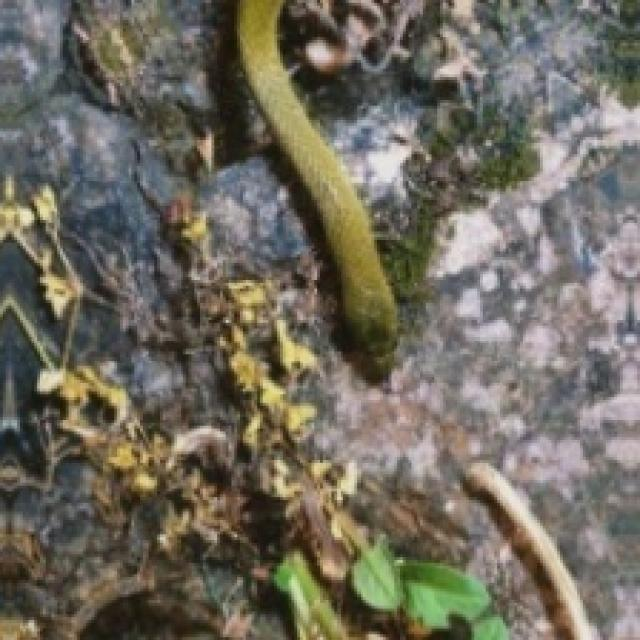gunthers philippine shrub snake: (237, 0, 394, 380), (463, 460, 594, 637)
